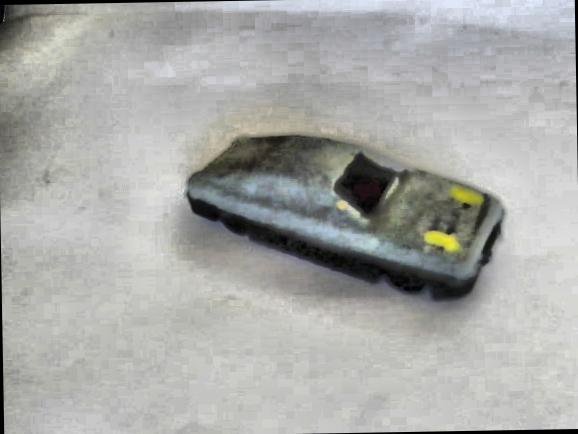normal_car: (170, 117, 516, 310)
